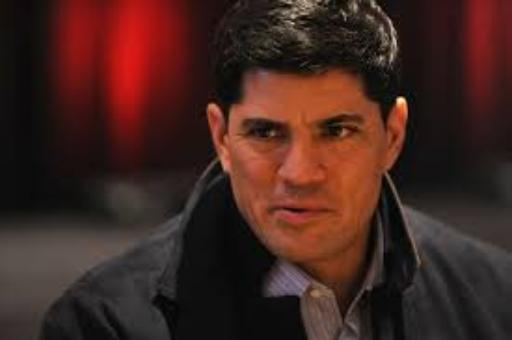left_eye: (317, 125, 365, 142)
left_lip_corner: (319, 205, 340, 220)
right_eye: (244, 126, 293, 143)
right_lip_corner: (267, 204, 284, 220)
